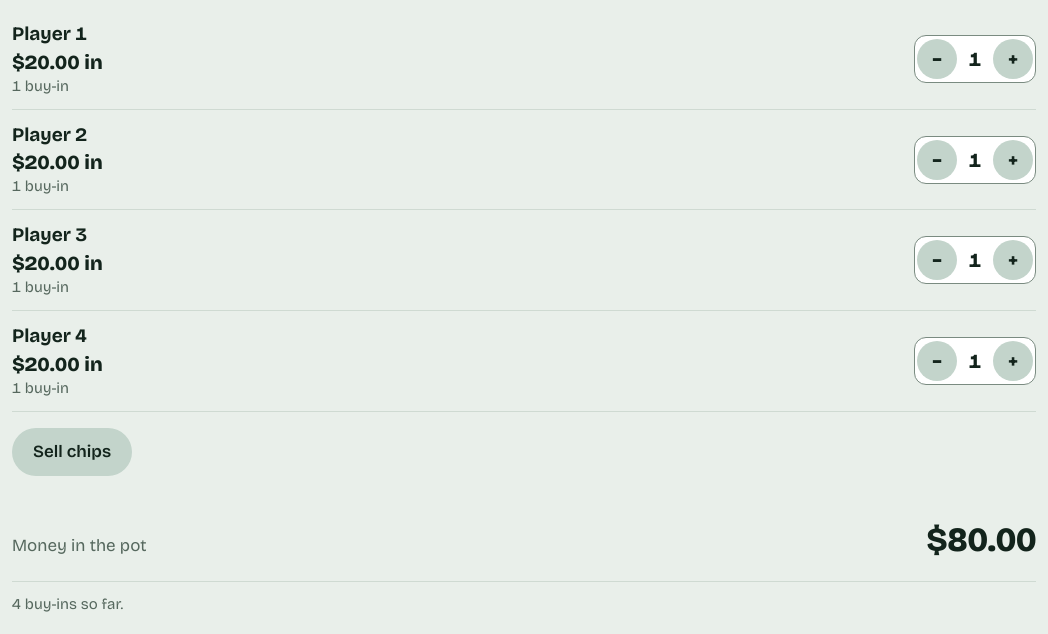
Test: SPEC-0004: the Sell chips form › says the amount is money, in the game's currency, and takes no letters
Click the button "Sell chips" at (72, 452), box top-left (12, 428), bottom-right (132, 476)
(page scrolled)
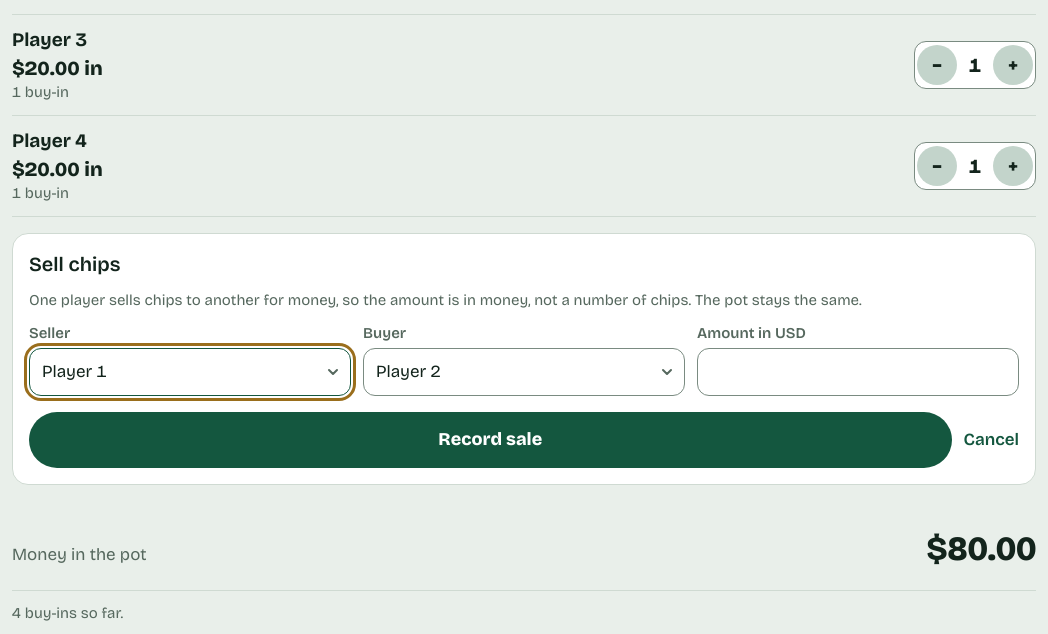
Type "a5sd.5x" into the field labelled "Amount in USD" at (858, 372), box top-left (697, 348), bottom-right (1019, 396)
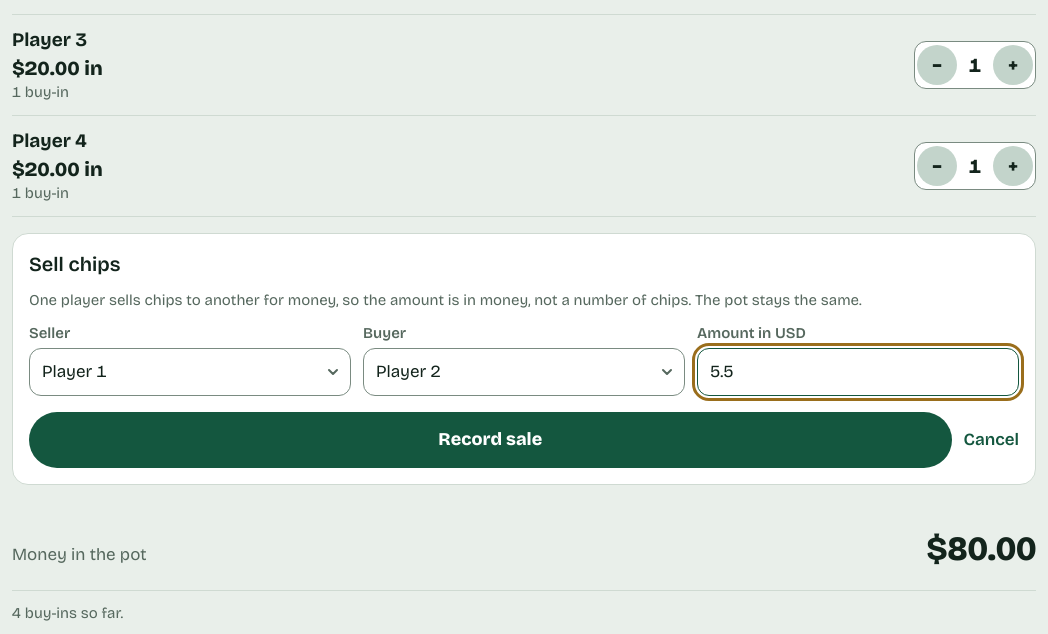
Now the field labelled "Amount in USD" holds "5.5", box top-left (697, 348), bottom-right (1019, 396)
